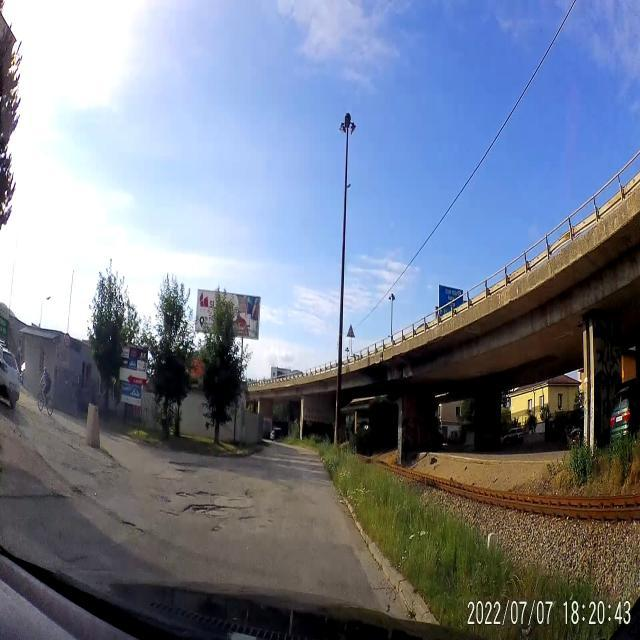Manhole: (226, 494, 244, 506), (208, 508, 226, 518)
Pothole: (180, 496, 213, 522), (120, 520, 146, 537), (193, 484, 217, 498), (169, 458, 202, 467), (158, 508, 178, 521), (238, 514, 257, 525), (210, 522, 222, 538), (174, 468, 198, 473), (175, 491, 192, 496), (226, 466, 236, 474)
